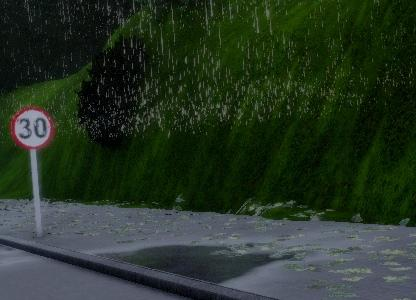Speed_30: (5, 105, 57, 152)
